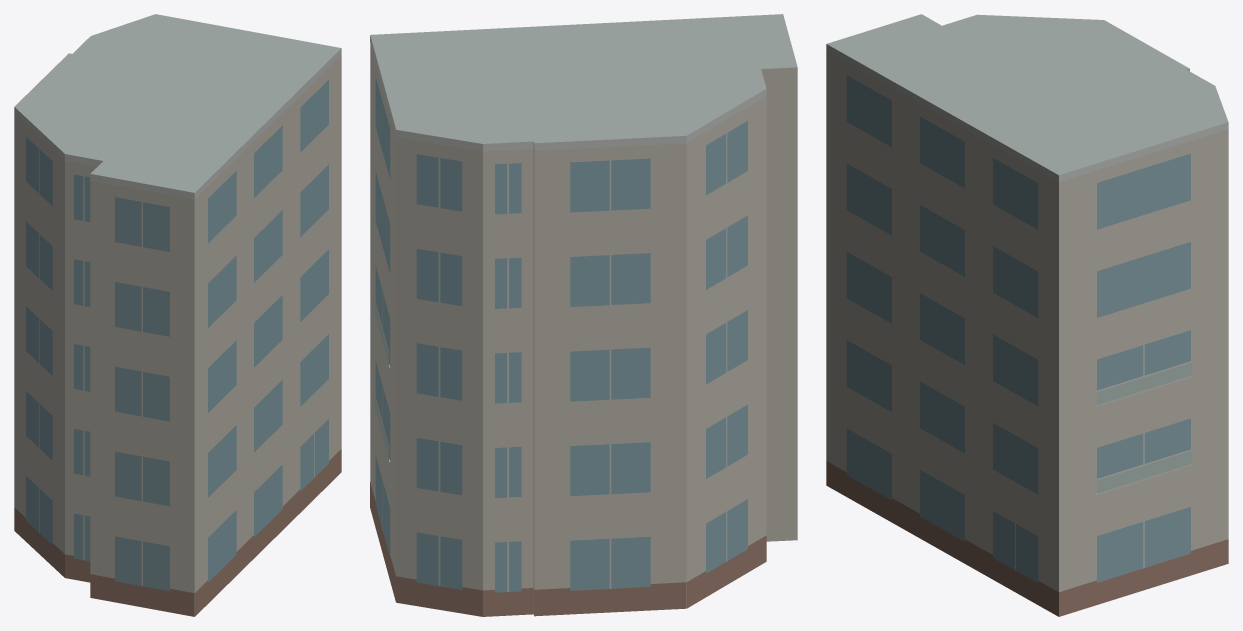
The model's file is survey-upis-32707887.glb.
3 views of the same model, side by side, from view 1: azimuth 30°, elevation 25°; view 2: azimuth 150°, elevation 25°; view 3: azimuth 270°, elevation 25° (orthographic). The views are drawn at different scales.
Parts seen in each view (by area): view 1: survey-upis-32707887.tmp; view 2: survey-upis-32707887.tmp; view 3: survey-upis-32707887.tmp.
Part boxes in pixels (left/top/right/bottom): survey-upis-32707887.tmp: left=14, top=14, right=341, bottom=616; survey-upis-32707887.tmp: left=370, top=14, right=797, bottom=616; survey-upis-32707887.tmp: left=826, top=14, right=1228, bottom=616.
Bounding box in the file's own units: 12.07 × 15.4 × 12.72.
